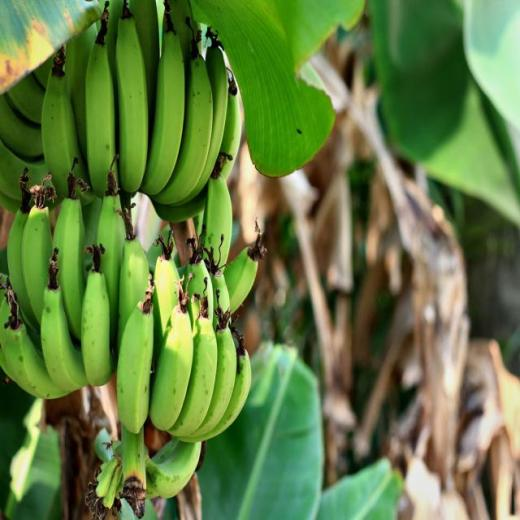Banana: (0, 1, 267, 518), (114, 276, 152, 437)
